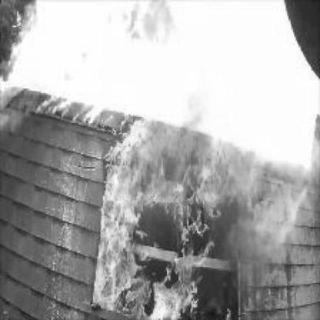Fire: (80, 84, 289, 314)
